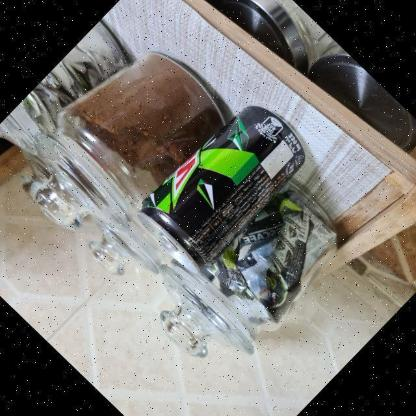Can: (140, 107, 306, 275)
